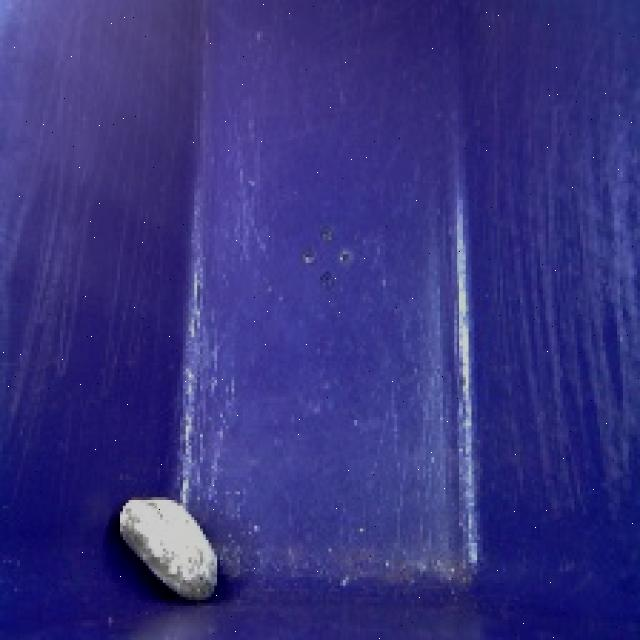cobbles: (106, 490, 225, 608)
